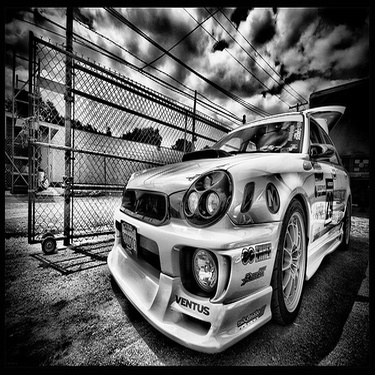car: (103, 100, 355, 359), (5, 148, 56, 206)
